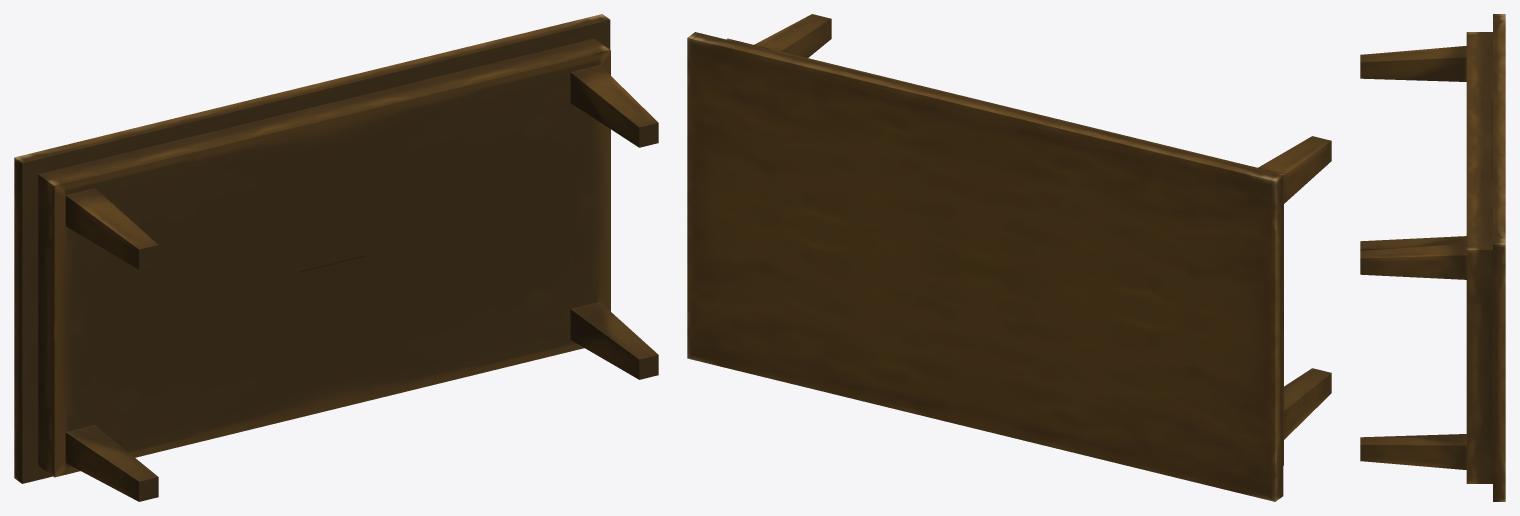
The model's file is props_table_big.fbx.
3 renders of one model, left to right at view 1: azimuth 30°, elevation 25°; view 2: azimuth 150°, elevation 25°; view 3: azimuth 270°, elevation 25°, orthographic. The views are drawn at different scales.
Visible parts, largest first — view 1: table_big; view 2: table_big; view 3: table_big.
Part boxes in pixels (box(x1,y1,x2,y2)): table_big: box(14, 14, 658, 501); table_big: box(687, 14, 1331, 501); table_big: box(1360, 14, 1505, 501).
Size of the model in its own units: 2.81 by 1.46 by 0.7494.
Materials: 1 (1 with a texture image).
